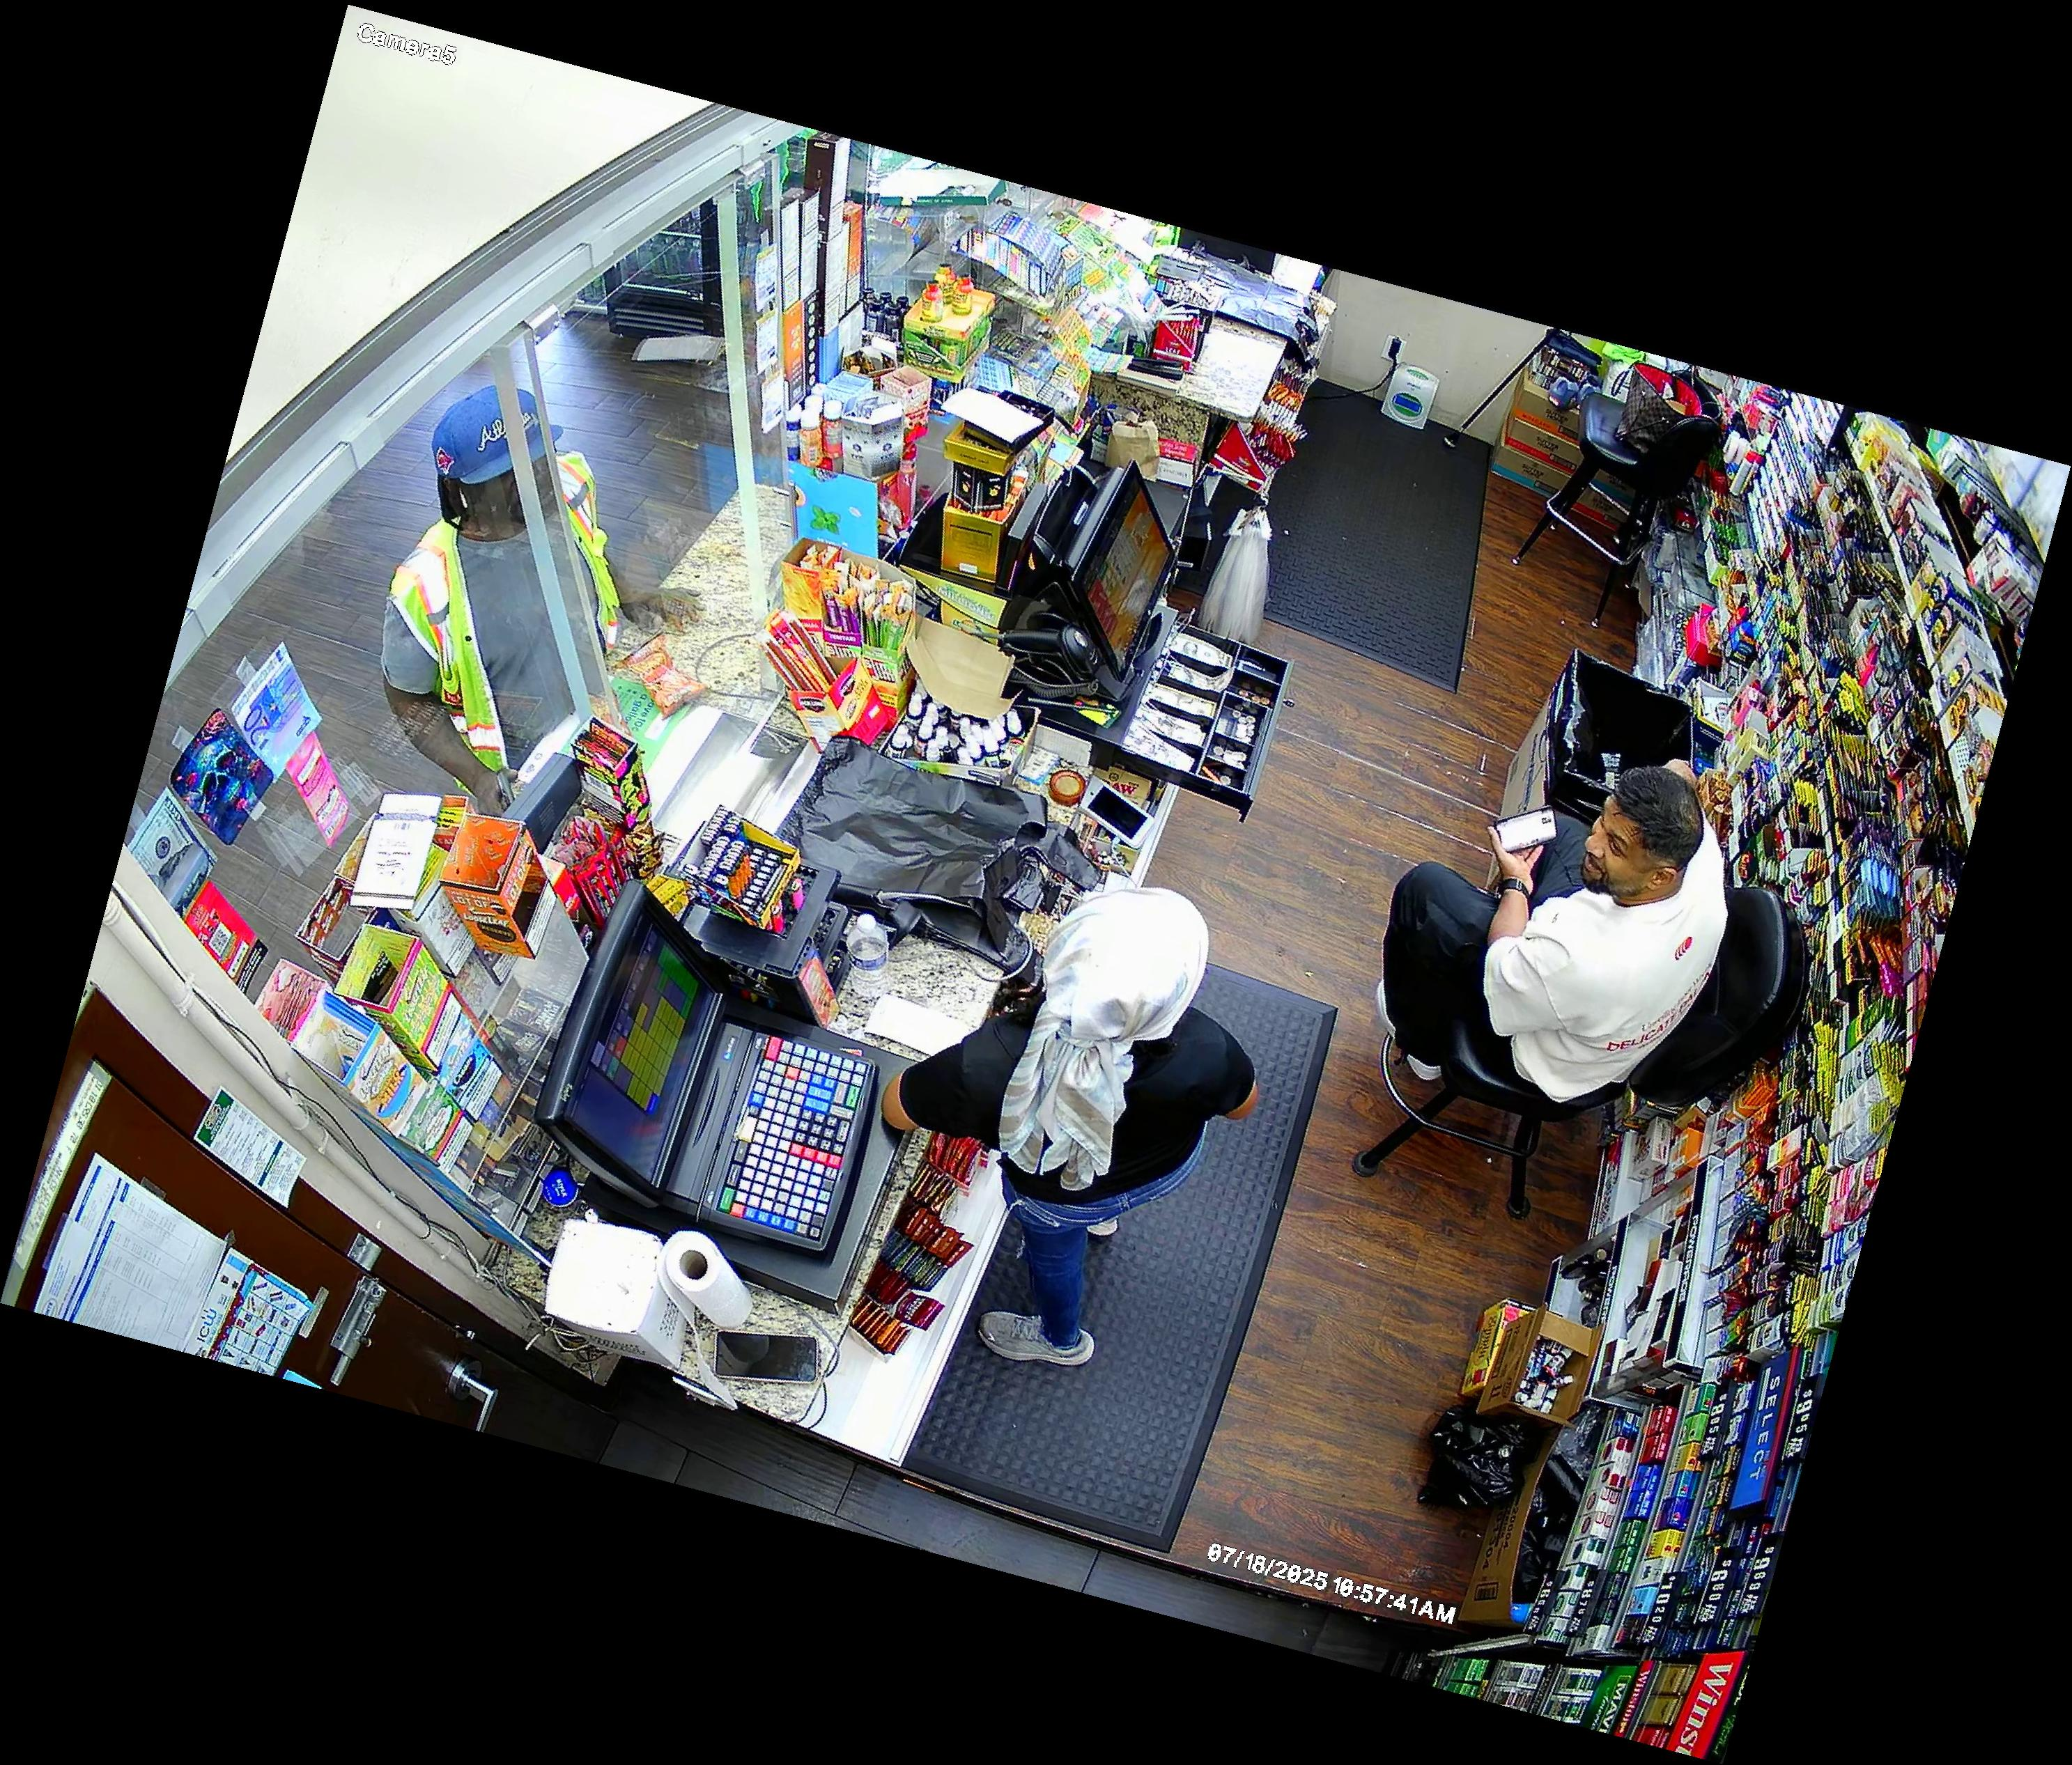phone: (1482, 797, 1566, 861), (487, 769, 518, 819)
